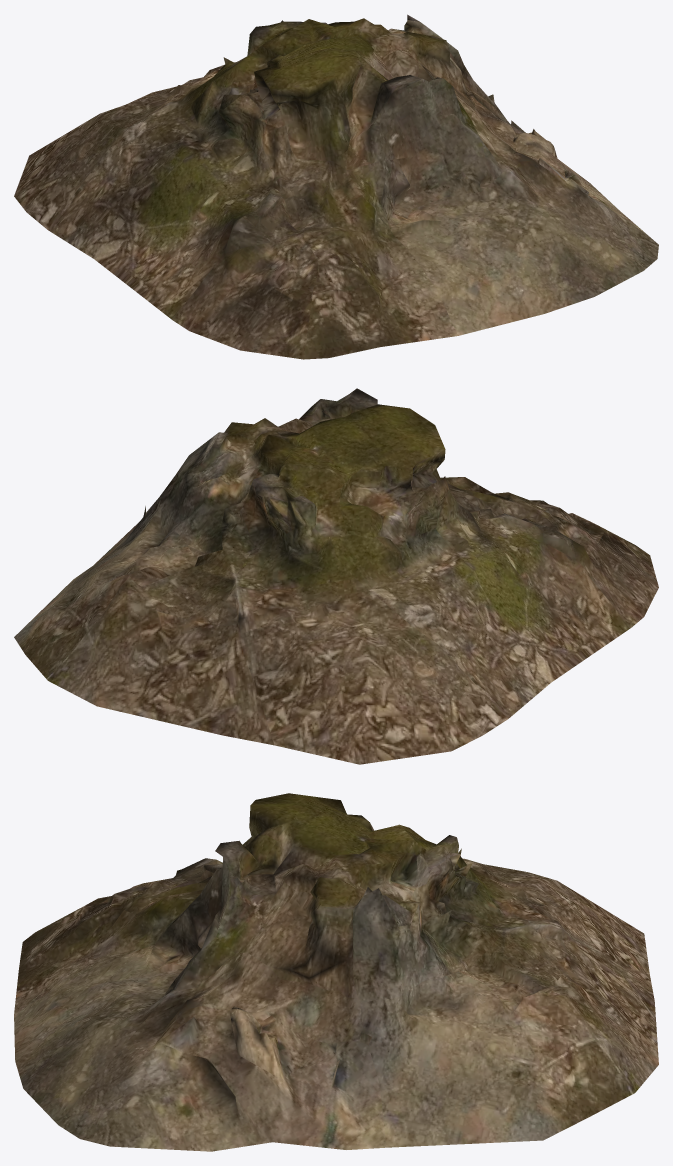
The model's file is tree_stump_01.glb.
3 renders of one model, top to bottom at view 1: azimuth 30°, elevation 25°; view 2: azimuth 150°, elevation 25°; view 3: azimuth 270°, elevation 25°, orthographic. The views are drawn at different scales.
Parts seen in each view (by area): view 1: tree_stump_01; view 2: tree_stump_01; view 3: tree_stump_01.
Part boxes in pixels (x1,y1,x2,y2): tree_stump_01: [14, 14, 658, 359]; tree_stump_01: [14, 388, 658, 764]; tree_stump_01: [14, 793, 658, 1151].
Size of the model in its own units: 1.43 by 0.571 by 1.59.
Materials: 1 (1 with a texture image).
